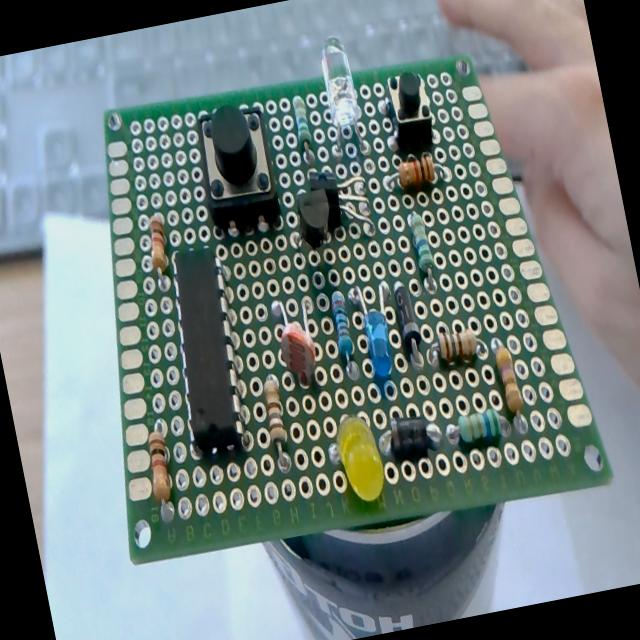IC: (156, 244, 255, 460)
cds: (267, 292, 323, 395)
diode: (374, 406, 448, 466), (390, 278, 426, 361)
led: (312, 35, 370, 158), (330, 410, 390, 508), (348, 280, 399, 380)
resistor: (260, 380, 296, 472), (405, 206, 440, 294), (142, 428, 178, 506), (328, 289, 358, 366), (430, 324, 480, 368), (454, 407, 506, 448), (494, 346, 524, 416), (143, 213, 173, 275), (396, 151, 438, 191), (290, 92, 315, 154)
switch: (191, 98, 284, 236), (381, 67, 438, 150)
transistor: (307, 163, 378, 239), (293, 184, 336, 250)
